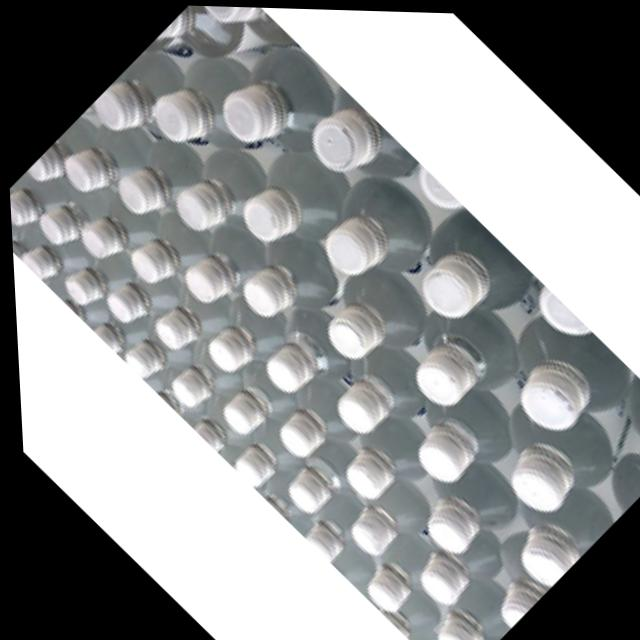plastic_water_bottles: (120, 56, 242, 176), (222, 149, 343, 268), (302, 262, 422, 380), (479, 420, 597, 537), (402, 229, 517, 342), (287, 83, 401, 194), (493, 339, 603, 447), (153, 152, 257, 254), (390, 392, 493, 494)
